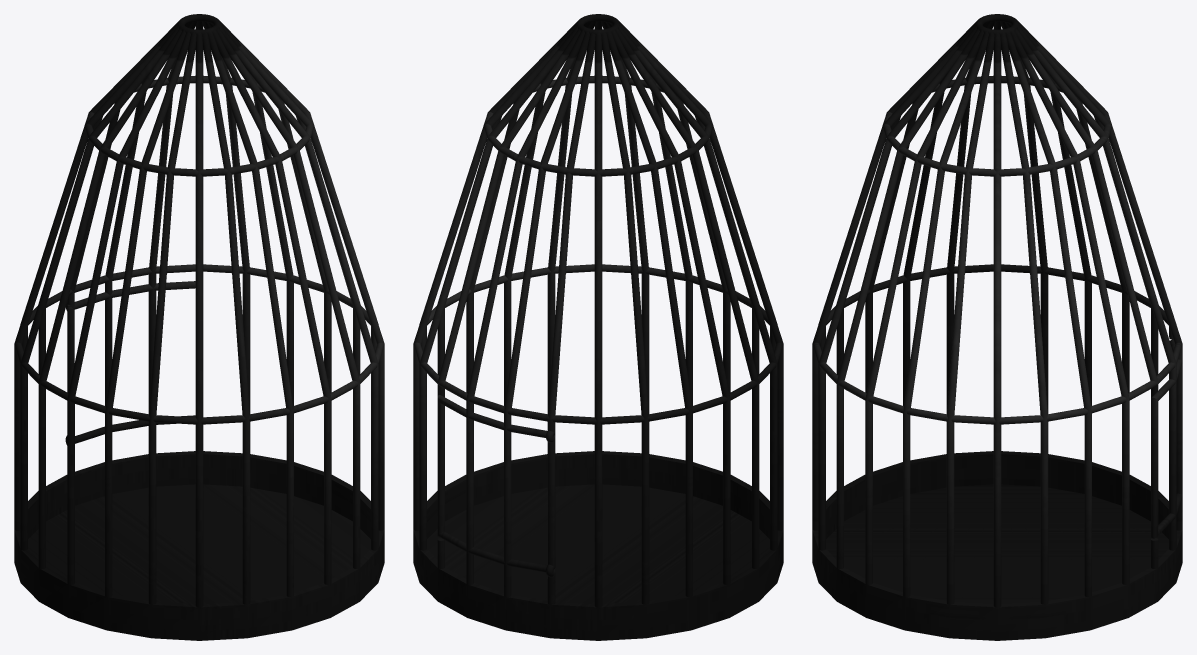
File: BirdCage.fbx
3 renders of one model, left to right at view 1: azimuth 30°, elevation 25°; view 2: azimuth 150°, elevation 25°; view 3: azimuth 270°, elevation 25°, orthographic.
Visible parts, largest first — view 1: BirdCage1; view 2: BirdCage1; view 3: BirdCage1.
Boxes of the visible parts, box(x1,y1,x2,y2) form: BirdCage1: box(14, 14, 384, 640); BirdCage1: box(413, 14, 783, 640); BirdCage1: box(812, 14, 1182, 640).
Bounding box in the file's own units: 500 × 805 × 500.
